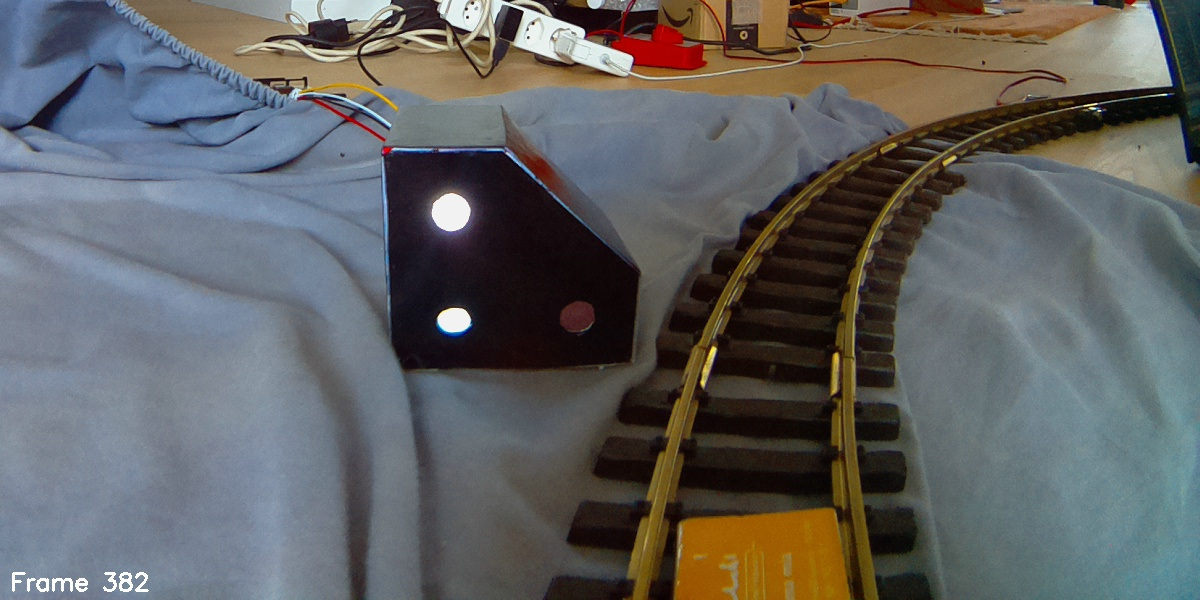Fahrt: (389, 101, 638, 370)
